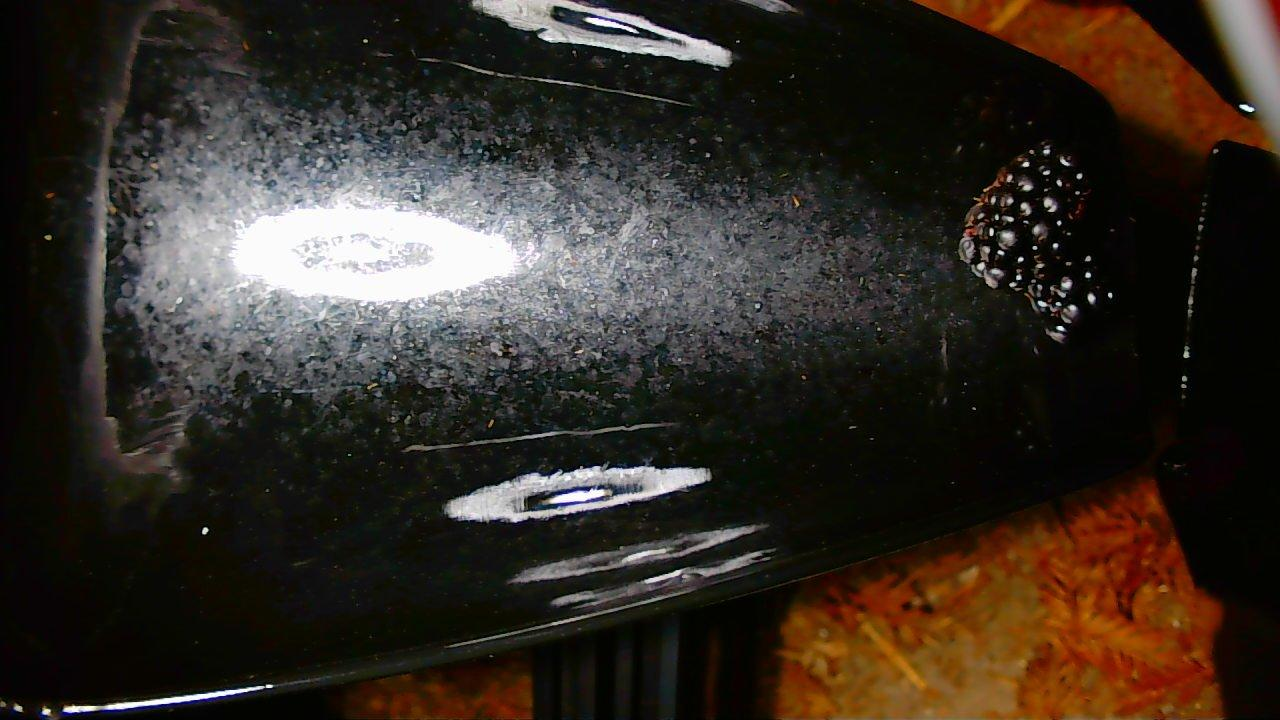berry: (959, 143, 1086, 289), (1026, 263, 1112, 342)
